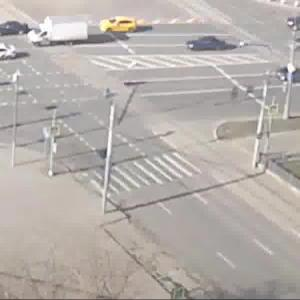car: (29, 18, 90, 50), (191, 36, 231, 59), (96, 15, 139, 36), (276, 64, 300, 88), (1, 46, 22, 66), (284, 19, 300, 38)
